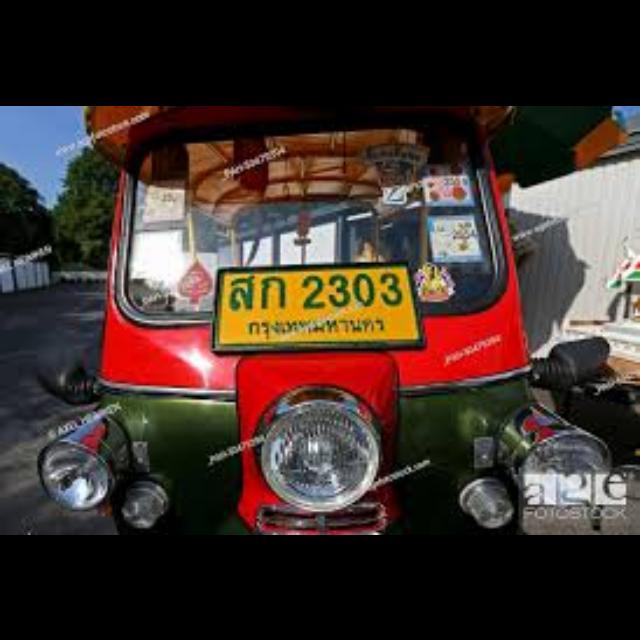licenseplate: (211, 263, 429, 349)
